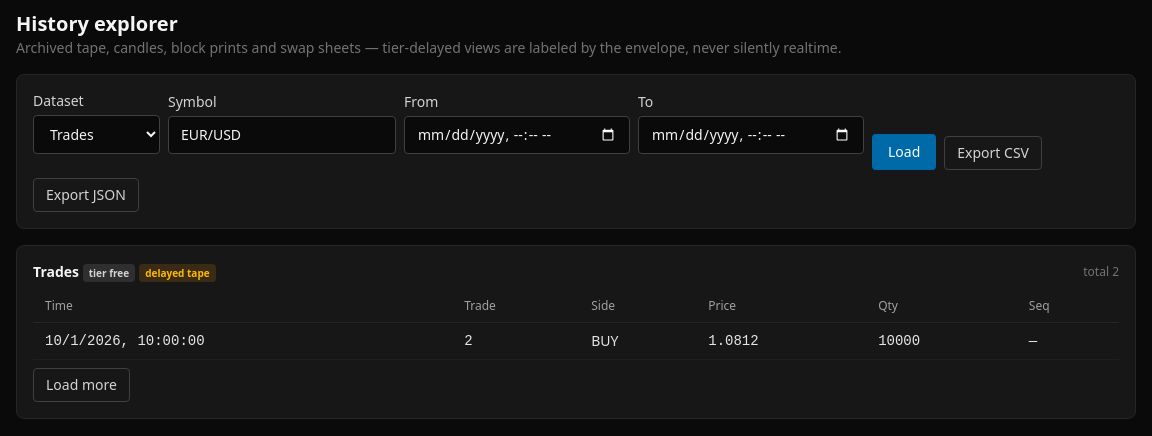
HistoryExplorerPage › renders the trades tape with access-tier and delayed badges, then pages via cursor
Expected: the text "1.0812" is shown, left=696, top=323, right=866, bottom=360
Expected: the text "tier free" is shown, left=83, top=264, right=135, bottom=282
Click the button "Load more" at (81,385), box left=33, top=368, right=130, bottom=402
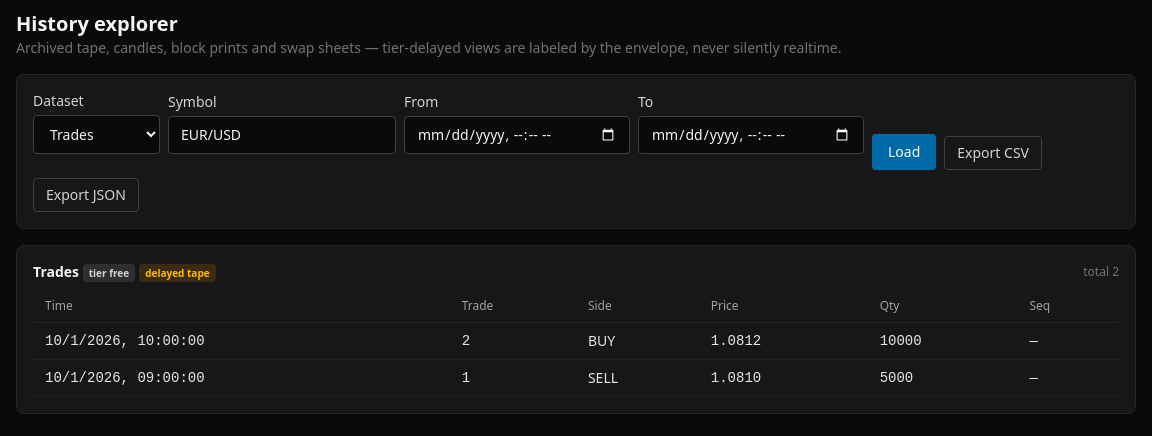
Expected: the text "1.0810" is shown, left=699, top=360, right=868, bottom=397
